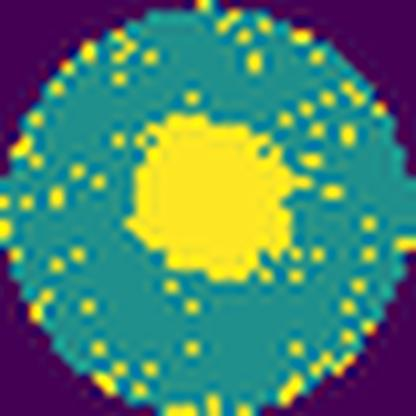Center: (125, 116, 315, 284)
